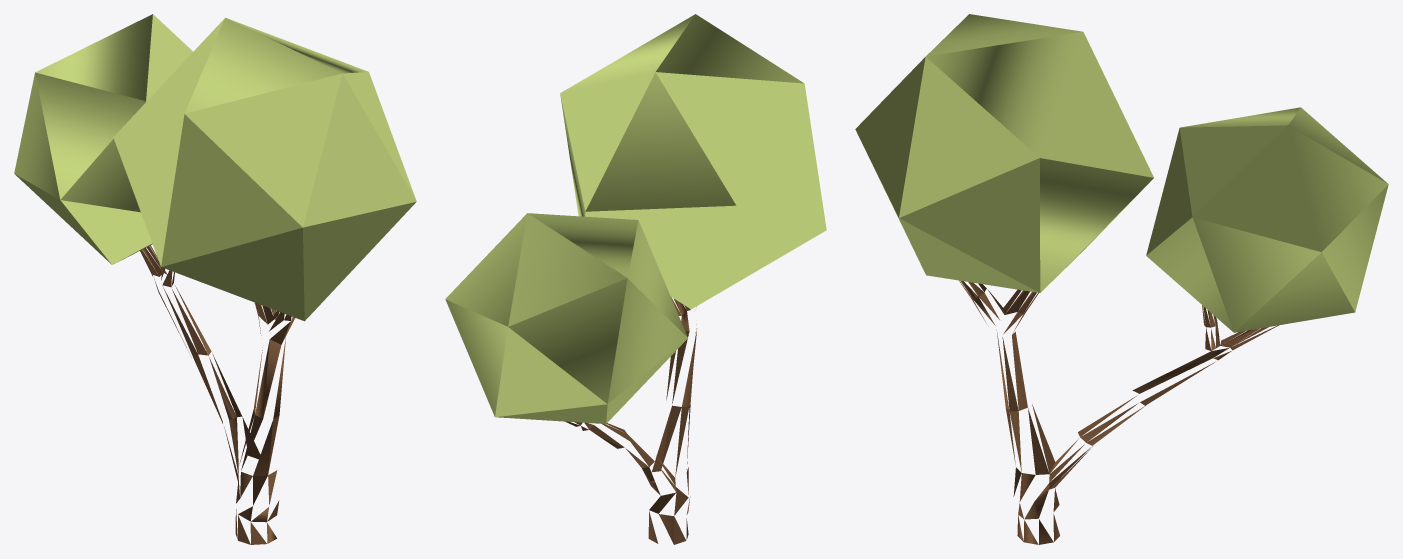
File: Tree3-transformed.glb
The picture shows the model from 3 angles, left to right: view 1: azimuth 30°, elevation 25°; view 2: azimuth 150°, elevation 25°; view 3: azimuth 270°, elevation 25°; orthographic projection. The views are drawn at different scales.
Visible parts, largest first — view 1: Tree3; view 2: Tree3; view 3: Tree3.
Boxes of the visible parts, x1,y1,x2,y2 form: Tree3: (14, 14, 416, 544); Tree3: (445, 14, 826, 544); Tree3: (855, 14, 1388, 544).
Size of the model in its own units: 2.06 by 4.08 by 3.95.
